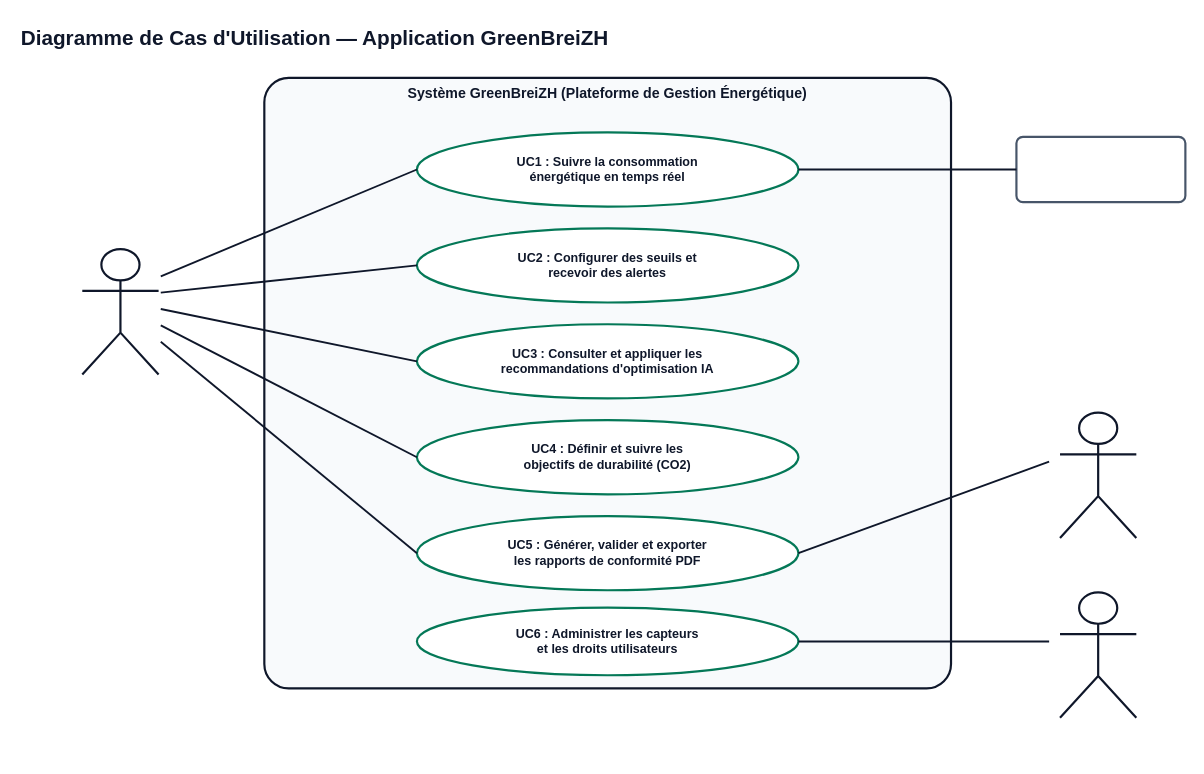
The diagram is 1204 pixels wide and 774 high, and some of its shapes have lost their labels. The shapes that lost their labels are listed below. From the top down, each one's centre as x and y in pixels, then its label:
At (x=1100, y=169): "Système Externe : Capteurs IoT".
At (x=120, y=311): "Utilisateur Client".
At (x=1097, y=474): "Responsable Conformité".
At (x=1097, y=654): "Administrateur Système".
